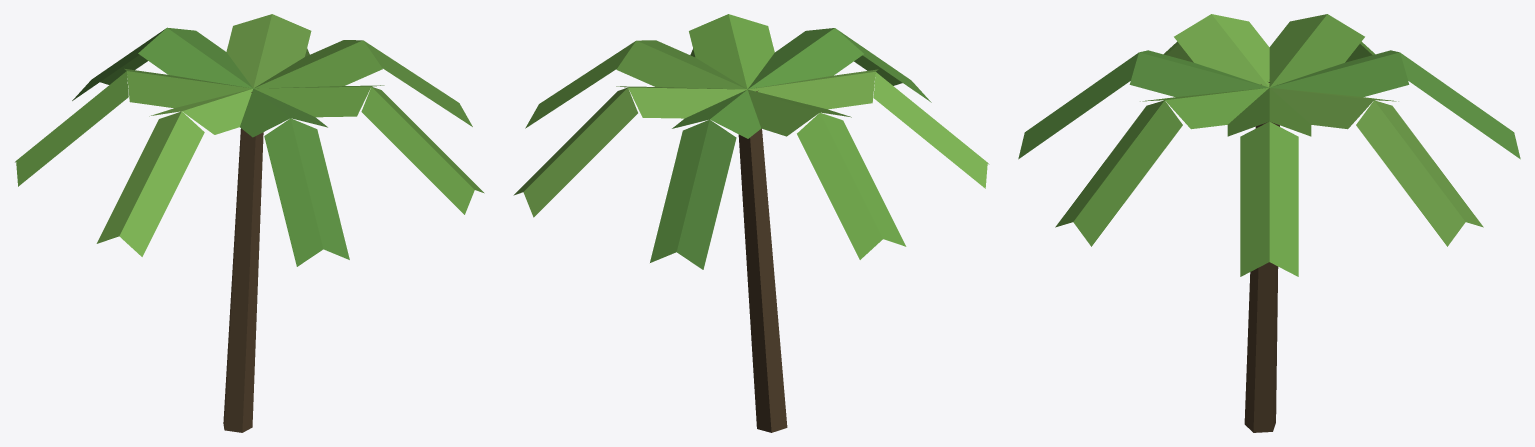
Rendered from tree_far_palm.glb.
3 renders of one model, left to right at view 1: azimuth 30°, elevation 25°; view 2: azimuth 150°, elevation 25°; view 3: azimuth 270°, elevation 25°, orthographic. The views are drawn at different scales.
Parts seen in each view (by area): view 1: tree_far_palm; view 2: tree_far_palm; view 3: tree_far_palm.
Part boxes in pixels (x1,y1,x2,y2): tree_far_palm: (15,14,484,432); tree_far_palm: (513,14,989,432); tree_far_palm: (1018,14,1520,432).
Bounding box in the file's own units: 5.85 × 4.91 × 6.01.
